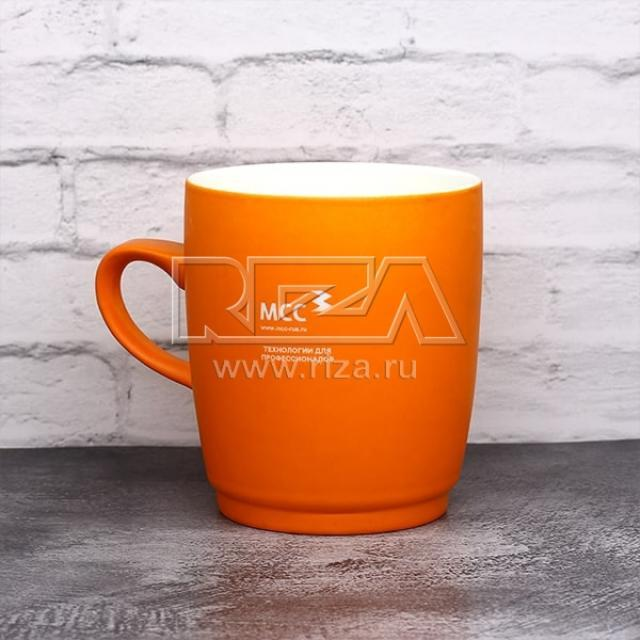cup: (98, 158, 480, 532)
